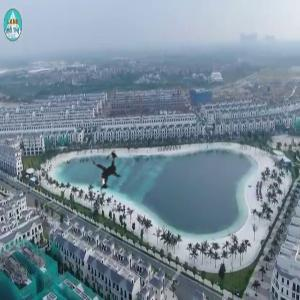drone: (68, 135, 145, 212)
